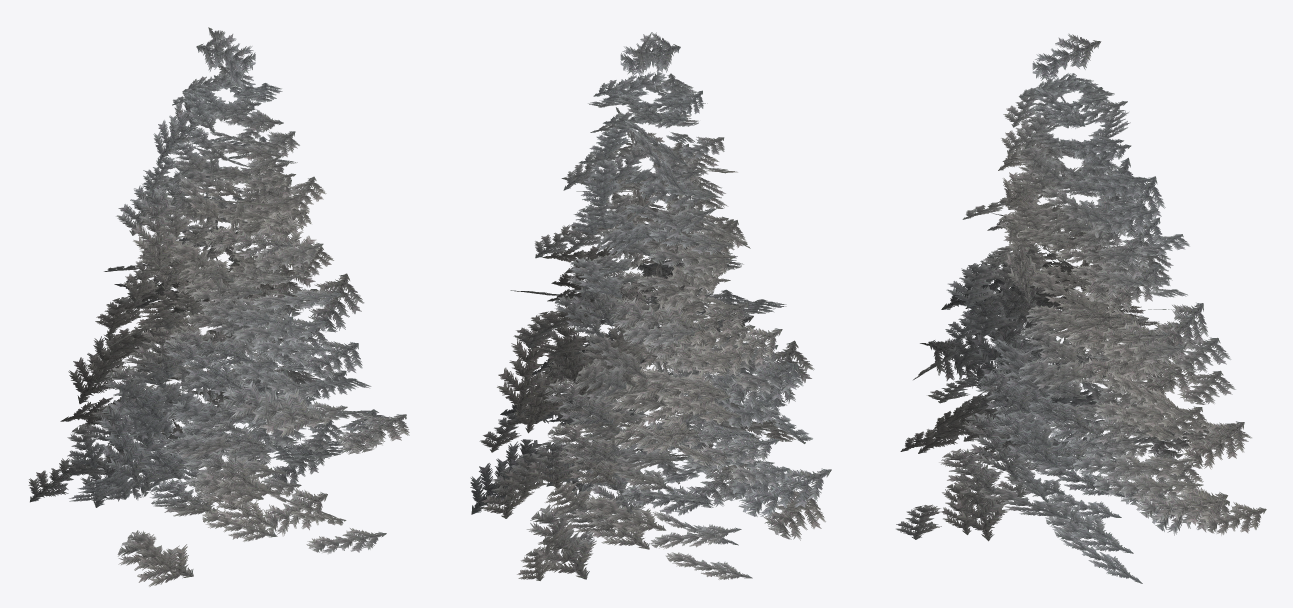
The model's file is spruce_l0.gltf.
3 renders of one model, left to right at view 1: azimuth 30°, elevation 25°; view 2: azimuth 150°, elevation 25°; view 3: azimuth 270°, elevation 25°, orthographic.
Visible parts, largest first — view 1: spruce_l0; view 2: spruce_l0; view 3: spruce_l0.
Boxes of the visible parts, bbox=[...] form: spruce_l0: bbox=[28, 27, 409, 586]; spruce_l0: bbox=[470, 32, 831, 580]; spruce_l0: bbox=[896, 33, 1266, 583].
Bounding box in the file's own units: 9.05 × 13.01 × 9.2.
Materials: 1 (1 with a texture image).
